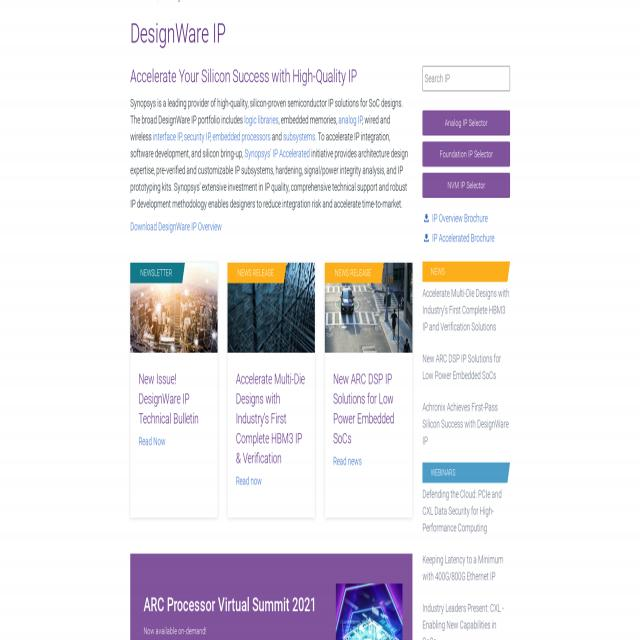button: (131, 553, 412, 640), (228, 262, 316, 519), (325, 262, 413, 519), (130, 262, 218, 518), (422, 110, 510, 136), (422, 172, 510, 198), (422, 142, 510, 166), (422, 261, 508, 282), (422, 462, 508, 482)
field: (422, 66, 510, 92)
